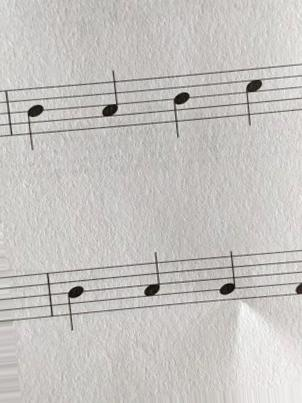note: (168, 71, 193, 144), (243, 62, 269, 130), (213, 248, 240, 311), (21, 88, 47, 153), (63, 265, 87, 334), (140, 247, 163, 319), (98, 68, 122, 132)
